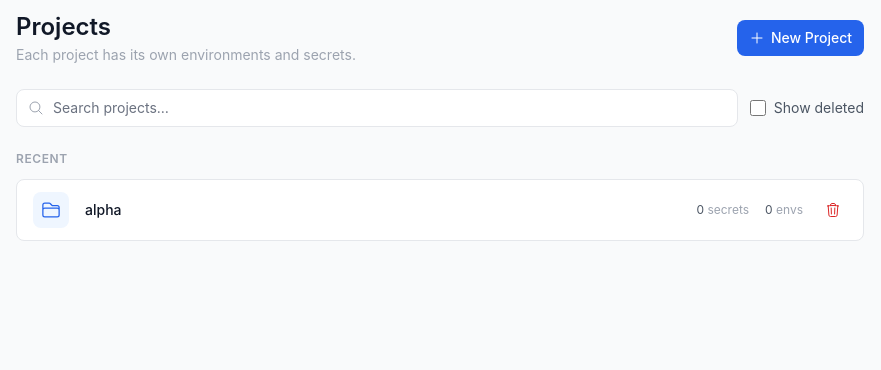
Test case: ProjectsListPage › shows a "no match" empty state including the search term when search finds nothing
Type "nonexistent-term" into the field with placeholder "Search projects…" at (377, 108), box [16, 89, 738, 127]
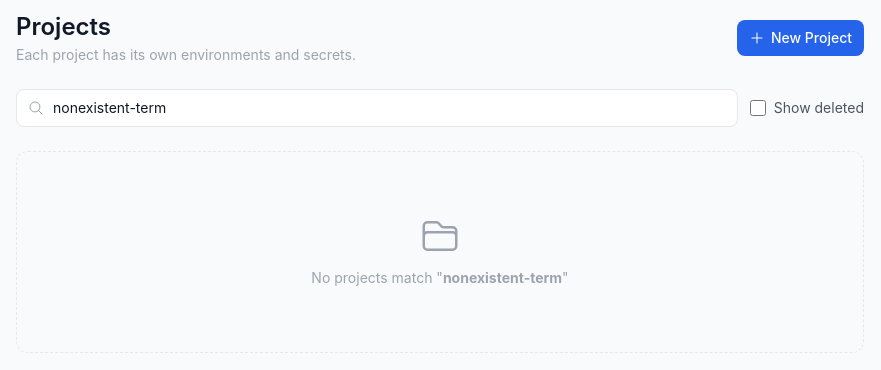
Result: the text "No projects match \"nonexistent-term\"" is shown at [311, 269, 569, 286]
Result: the text "nonexistent-term" is shown at [443, 269, 562, 286]
